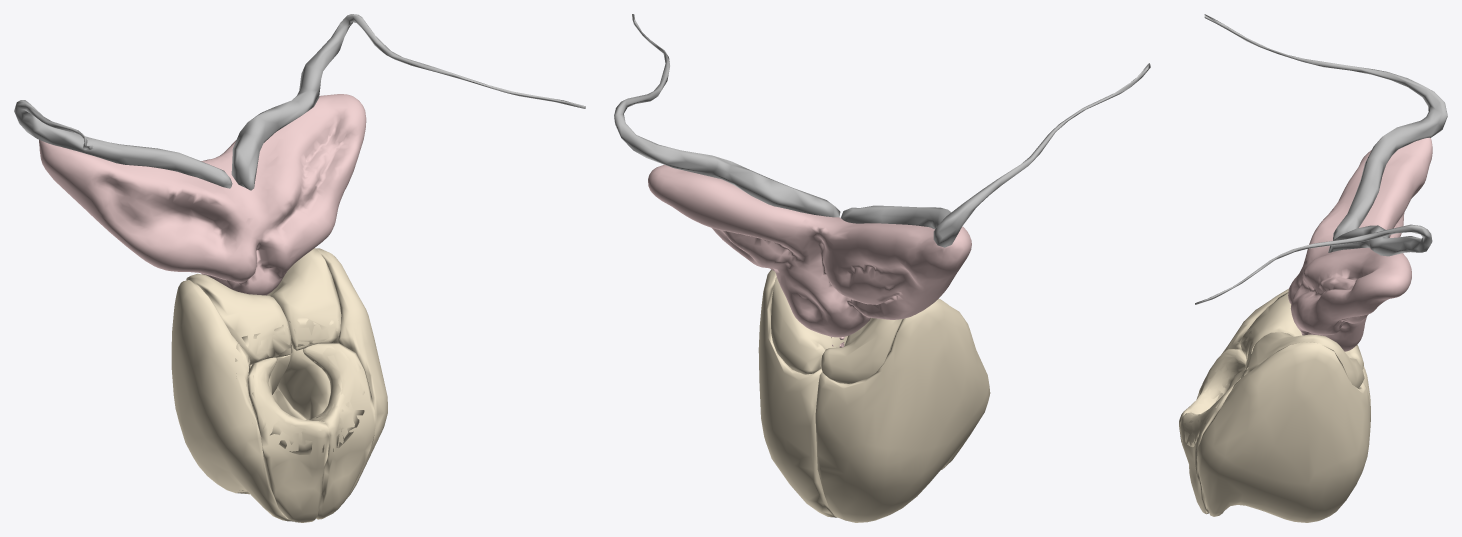
File: vh_m_prostate-40.glb
3 views of the same model, side by side, from view 1: azimuth 30°, elevation 25°; view 2: azimuth 150°, elevation 25°; view 3: azimuth 270°, elevation 25° (orthographic). The views are drawn at different scales.
Visible parts, largest first — view 1: VH_M_seminal_vesicle, VH_M_peripheral_zone_of_prostate_R, VH_M_anterior_fibromuscular_stroma_R, VH_M_anterior_fibromuscular_stroma_L, VH_M_vas_deferens_R, VH_M_vas_deferens_L, VH_M_base_of_prostate, VH_M_central_zone_of_prostate_L, VH_M_peripheral_zone_of_prostate_L, VH_M_central_zone_of_prostate_R, VH_M_transition_zone__of_prostate_L; view 2: VH_M_peripheral_zone_of_prostate_R, VH_M_seminal_vesicle, VH_M_peripheral_zone_of_prostate_L, VH_M_vas_deferens_R, VH_M_vas_deferens_L, VH_M_central_zone_of_prostate_R, VH_M_central_zone_of_prostate_L; view 3: VH_M_peripheral_zone_of_prostate_L, VH_M_seminal_vesicle, VH_M_vas_deferens_L, VH_M_vas_deferens_R, VH_M_central_zone_of_prostate_L, VH_M_central_zone_of_prostate_R, VH_M_anterior_fibromuscular_stroma_L, VH_M_base_of_prostate, VH_M_anterior_fibromuscular_stroma_R, VH_M_peripheral_zone_of_prostate_R.
Part boxes in pixels (left/top/right/bottom): VH_M_seminal_vesicle: left=39, top=94, right=366, bottom=295; VH_M_peripheral_zone_of_prostate_R: left=171, top=280, right=293, bottom=521; VH_M_anterior_fibromuscular_stroma_R: left=248, top=357, right=329, bottom=522; VH_M_anterior_fibromuscular_stroma_L: left=303, top=343, right=375, bottom=519; VH_M_vas_deferens_R: left=231, top=14, right=585, bottom=190; VH_M_vas_deferens_L: left=14, top=100, right=232, bottom=188; VH_M_base_of_prostate: left=235, top=317, right=364, bottom=454; VH_M_central_zone_of_prostate_L: left=267, top=248, right=341, bottom=387; VH_M_peripheral_zone_of_prostate_L: left=272, top=248, right=387, bottom=498; VH_M_central_zone_of_prostate_R: left=186, top=273, right=292, bottom=364; VH_M_transition_zone__of_prostate_L: left=277, top=344, right=330, bottom=419; VH_M_peripheral_zone_of_prostate_R: left=815, top=299, right=990, bottom=522; VH_M_seminal_vesicle: left=648, top=165, right=971, bottom=337; VH_M_peripheral_zone_of_prostate_L: left=758, top=269, right=836, bottom=517; VH_M_vas_deferens_R: left=614, top=14, right=840, bottom=217; VH_M_vas_deferens_L: left=841, top=63, right=1150, bottom=247; VH_M_central_zone_of_prostate_R: left=820, top=318, right=901, bottom=383; VH_M_central_zone_of_prostate_L: left=771, top=277, right=847, bottom=374; VH_M_peripheral_zone_of_prostate_L: left=1197, top=342, right=1370, bottom=522; VH_M_seminal_vesicle: left=1288, top=137, right=1432, bottom=351; VH_M_vas_deferens_L: left=1204, top=14, right=1447, bottom=240; VH_M_vas_deferens_R: left=1195, top=224, right=1432, bottom=304; VH_M_central_zone_of_prostate_L: left=1241, top=332, right=1364, bottom=388; VH_M_central_zone_of_prostate_R: left=1240, top=291, right=1363, bottom=369; VH_M_anterior_fibromuscular_stroma_L: left=1180, top=380, right=1238, bottom=514; VH_M_base_of_prostate: left=1181, top=324, right=1254, bottom=446; VH_M_anterior_fibromuscular_stroma_R: left=1179, top=349, right=1246, bottom=442; VH_M_peripheral_zone_of_prostate_R: left=1199, top=288, right=1370, bottom=407.
Bounding box in the file's own units: 0.0828 × 0.0706 × 0.0428.
